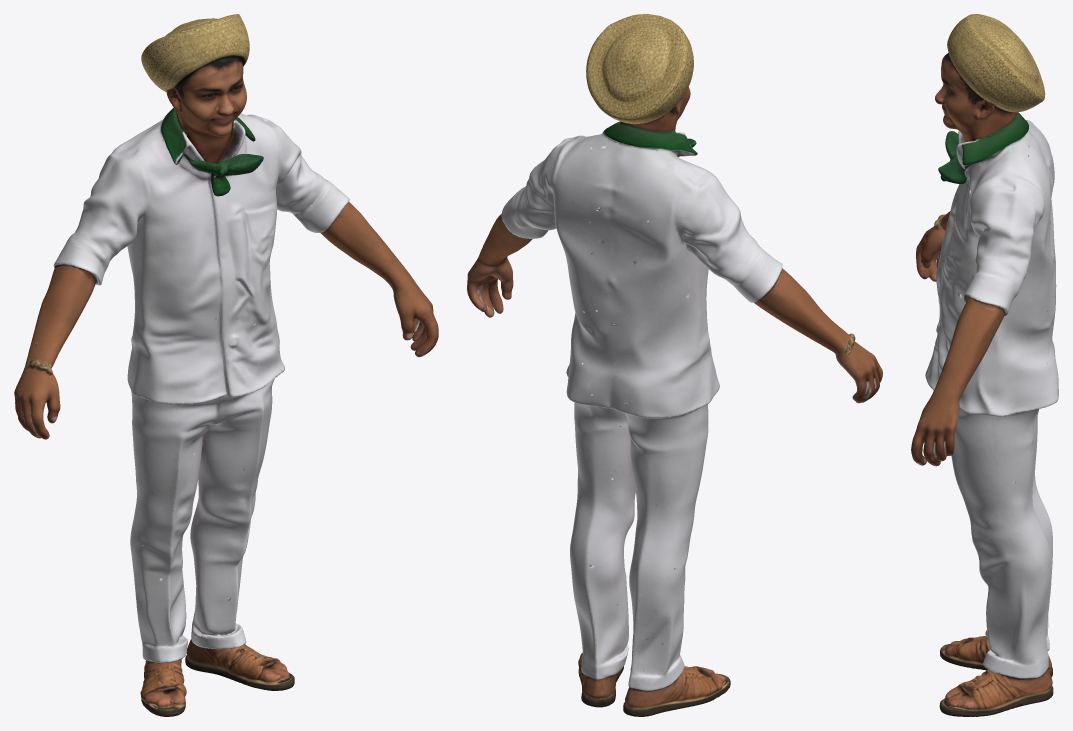
Rendered from takirari.glb.
The picture shows the model from 3 angles, left to right: view 1: azimuth 30°, elevation 25°; view 2: azimuth 150°, elevation 25°; view 3: azimuth 270°, elevation 25°; orthographic projection.
Parts seen in each view (by area): view 1: tripo_node_68a6b85d-839b-4bb2-b6fd-47b97a50972a; view 2: tripo_node_68a6b85d-839b-4bb2-b6fd-47b97a50972a; view 3: tripo_node_68a6b85d-839b-4bb2-b6fd-47b97a50972a.
Part boxes in pixels (x1,y1,x2,y2): tripo_node_68a6b85d-839b-4bb2-b6fd-47b97a50972a: (14,14,438,716); tripo_node_68a6b85d-839b-4bb2-b6fd-47b97a50972a: (467,14,882,716); tripo_node_68a6b85d-839b-4bb2-b6fd-47b97a50972a: (911,14,1058,716).
Size of the model in its own units: 0.6349 by 1 by 0.2021.
Materials: 1 (1 with a texture image).
